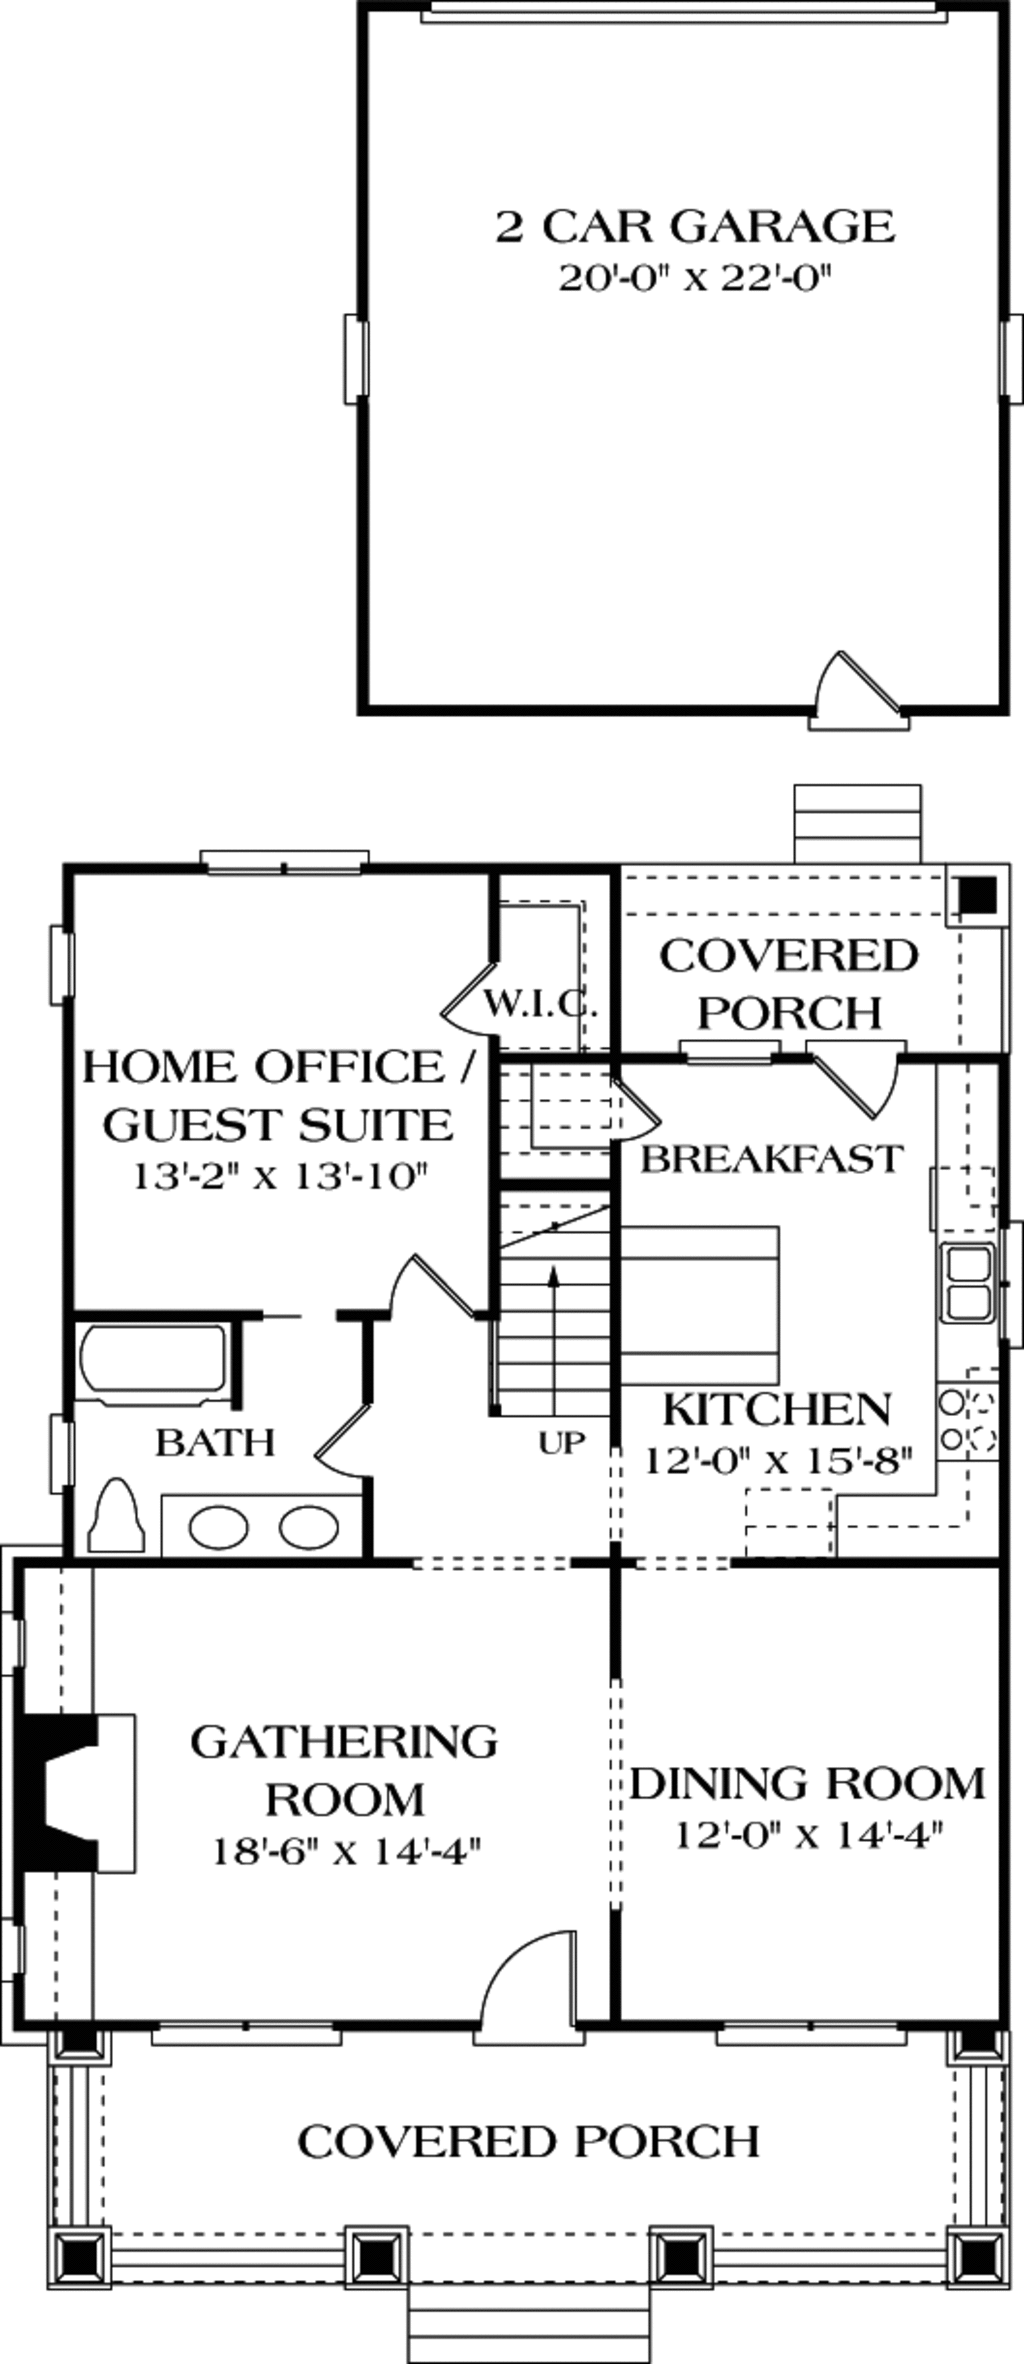door: (474, 1924, 606, 2067), (792, 1021, 909, 1117), (805, 656, 920, 745), (374, 1248, 477, 1345), (427, 966, 549, 1045), (306, 1410, 385, 1488)
large_sink: (87, 1462, 152, 1551)
small_sink: (163, 1481, 382, 1569)
stairs: (492, 1055, 624, 1425), (774, 770, 967, 896)
tub: (63, 1313, 238, 1395)
twin_sink: (938, 1229, 1016, 1345)
window: (118, 1989, 369, 2070), (682, 1999, 927, 2053), (338, 314, 427, 455), (199, 841, 374, 885), (42, 917, 92, 1024), (995, 314, 1024, 412)
